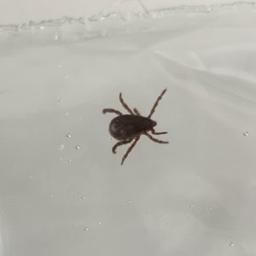Rhipicephalus sanguineus: (102, 87, 171, 165)
